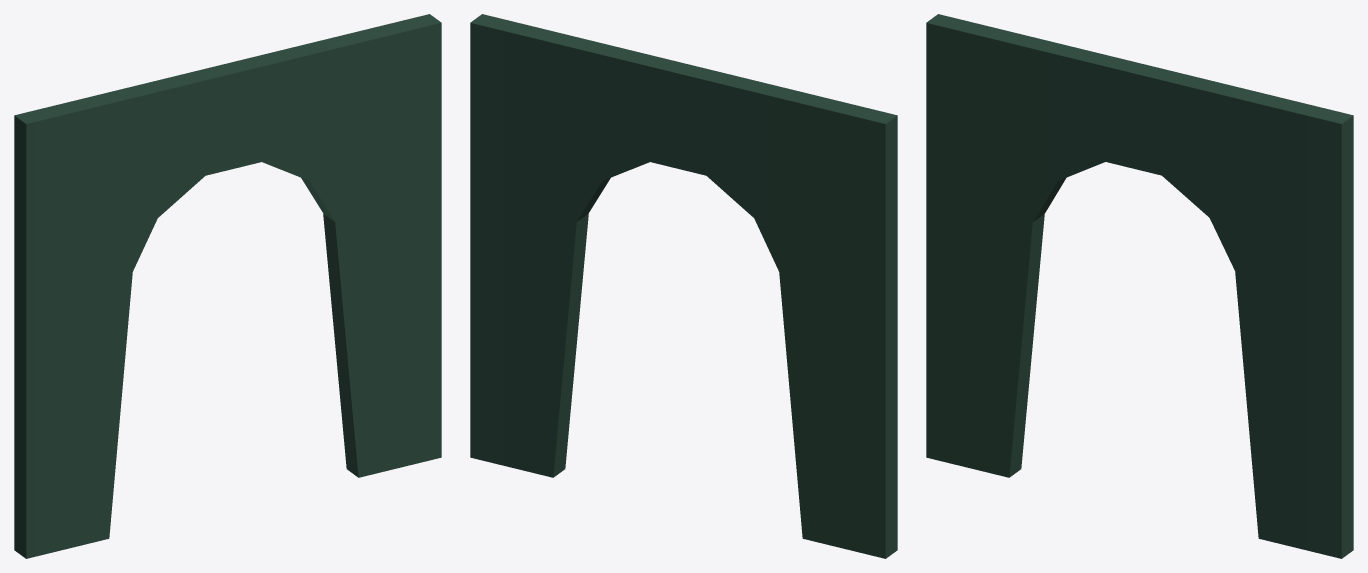
The model's file is SM_Wall_ArchLarge.fbx.
3 views of the same model, side by side, from view 1: azimuth 30°, elevation 25°; view 2: azimuth 150°, elevation 25°; view 3: azimuth 330°, elevation 25° (orthographic).
Visible parts, largest first — view 1: SM_Wall_ArchLarge; view 2: SM_Wall_ArchLarge; view 3: SM_Wall_ArchLarge.
Part boxes in pixels (x1=…): SM_Wall_ArchLarge: x1=14, y1=14, x2=441, y2=558; SM_Wall_ArchLarge: x1=470, y1=14, x2=897, y2=558; SM_Wall_ArchLarge: x1=926, y1=14, x2=1353, y2=558.
Bounding box in the file's own units: 1000 × 1000 × 50.
1 material, 1 textured.
